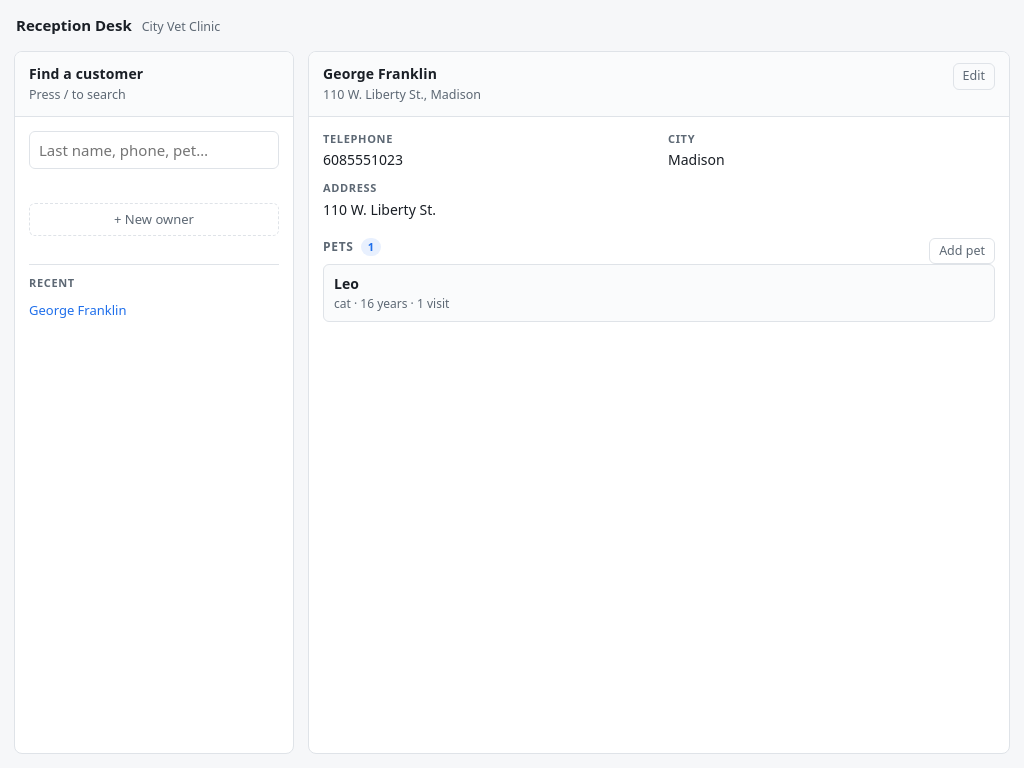
reception desk workflow › adds a pet and lists it under the customer
The image size is (1024, 768).
Click the button "Add pet".
click(962, 251)  # box [929,238,995,264]
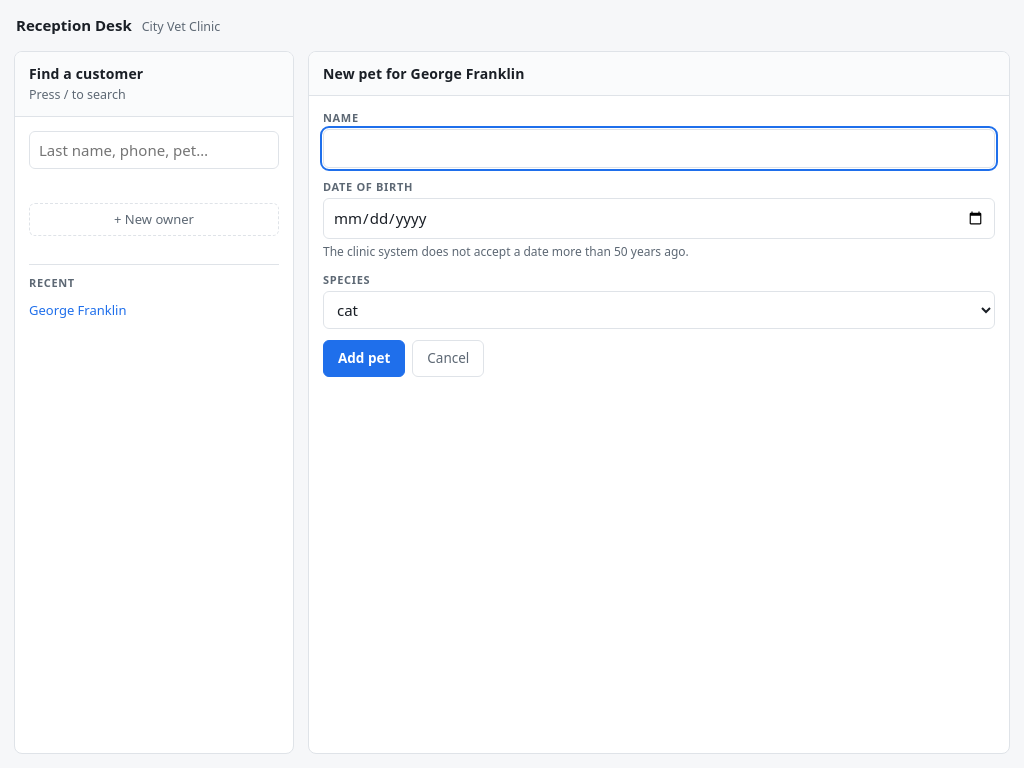
Type "Mittens" into the field labelled "Name".
click(659, 149); type("Mittens")  # box [323,129,995,168]
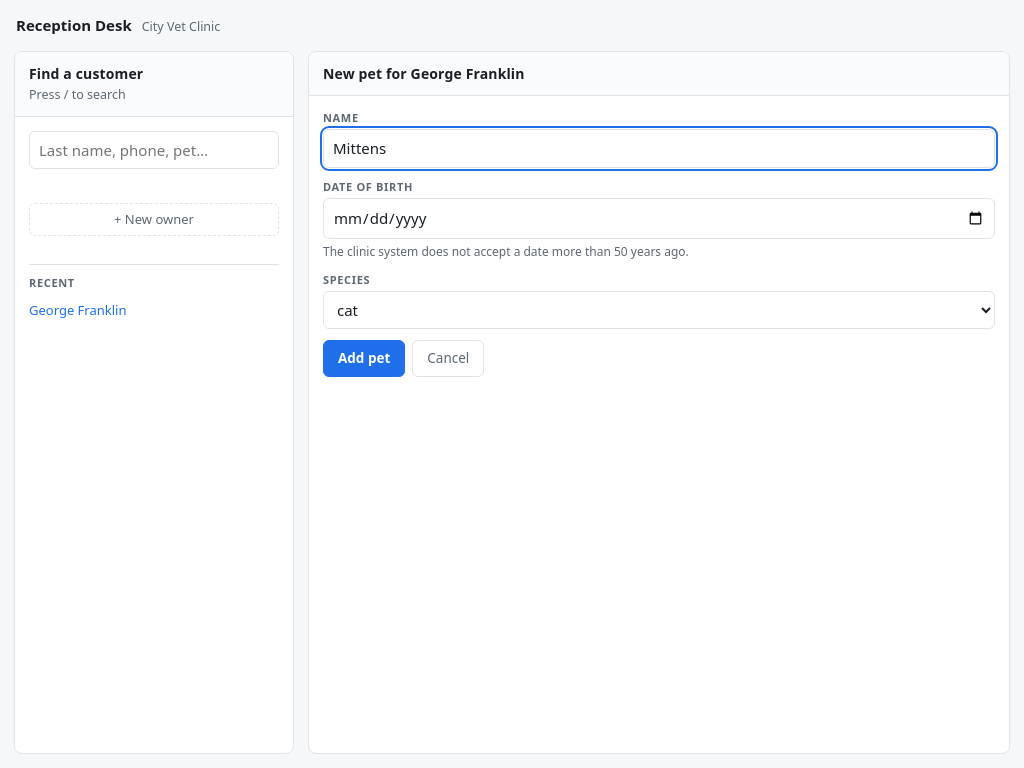
Type "2021-03-04" into the date field labelled "Date of birth".
click(659, 219); type("2021-03-04")  # box [323,198,995,239]
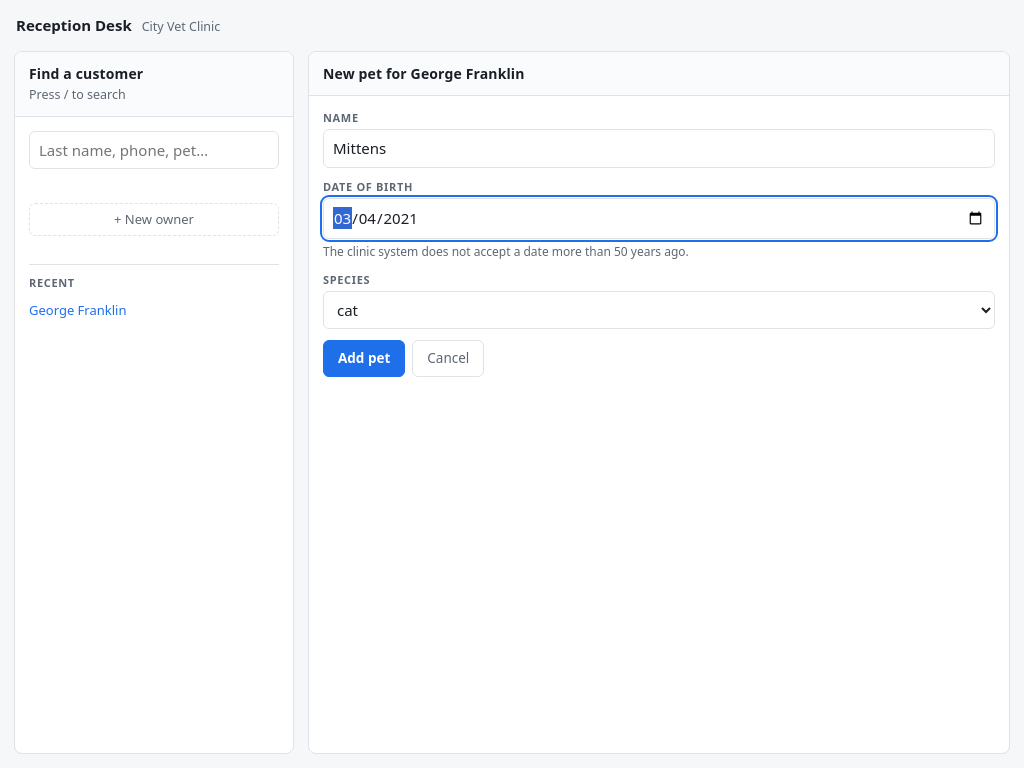
Select "dog" in the dropdown labelled "Species" at (659, 310), box [323,291,995,329]
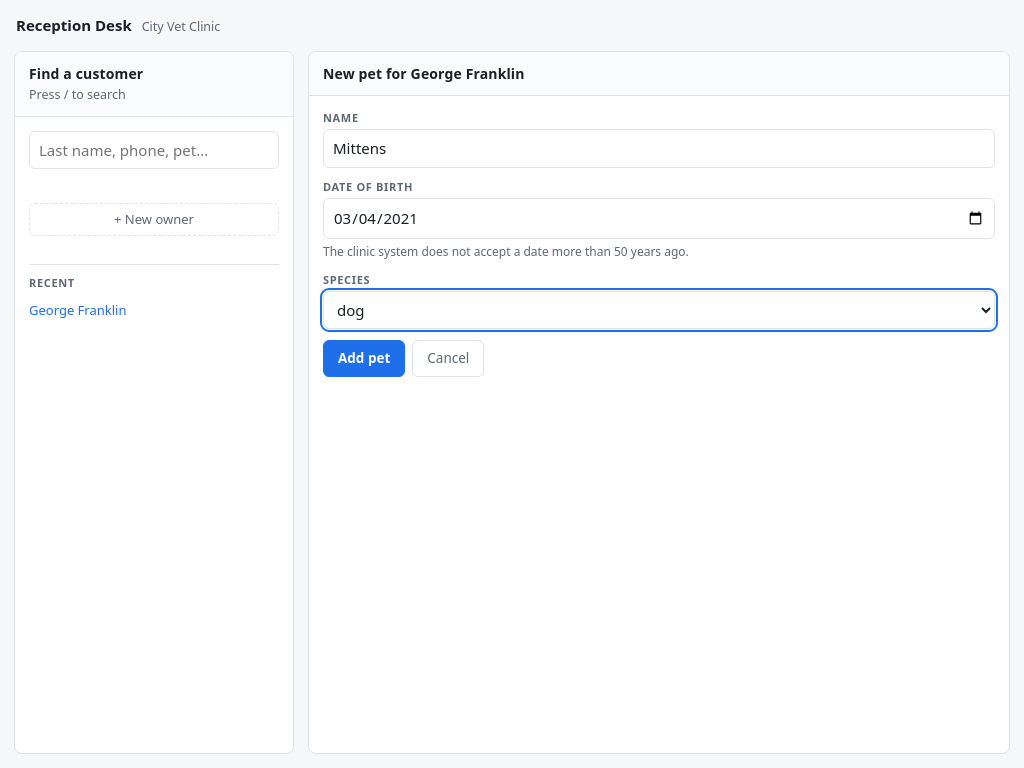
Click the button "Add pet".
click(364, 358)  # box [323,340,405,377]
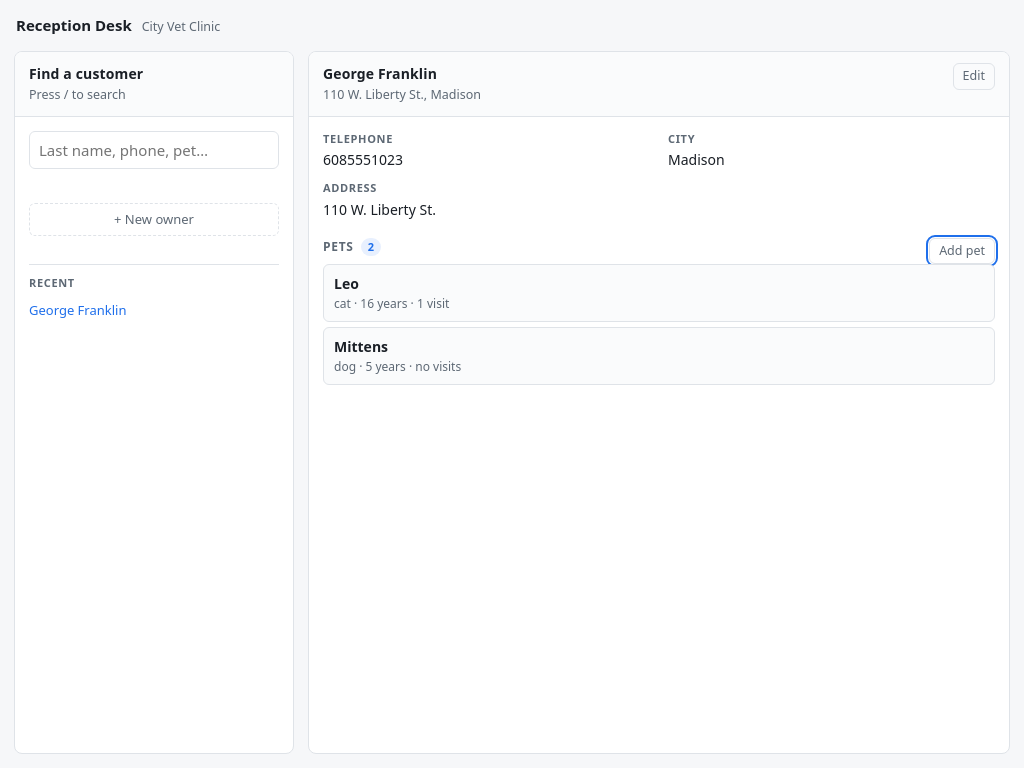
Expected: the text "Mittens" is shown, [334,337,388,356]
Expected: the text "dog · 5 years · no visits" is shown, [334,358,461,375]
